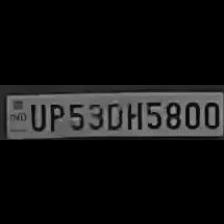0: (182, 98, 200, 128), (202, 98, 220, 128)
3: (86, 99, 104, 129)
5: (142, 97, 162, 129), (65, 99, 85, 129)
8: (163, 98, 181, 128)
D: (104, 97, 122, 128)
H: (124, 97, 142, 128)
P: (46, 99, 64, 130)
U: (27, 100, 46, 130)
